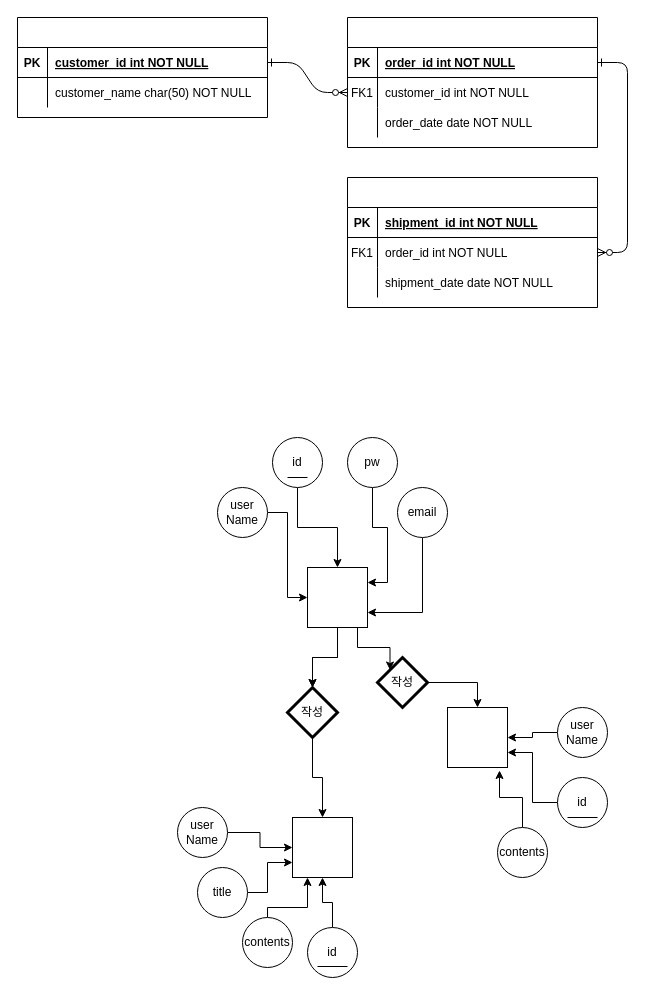
This 654x995 diagram has some shape labels left out. Here are the shapes that lost their labels. From the top down, the box of each, then its label:
(16, 16, 268, 118): comment
(346, 16, 598, 148): User
(346, 176, 598, 308): post
(306, 566, 368, 628): 유저
(446, 706, 508, 768): 댓글
(292, 816, 352, 878): 게시글
